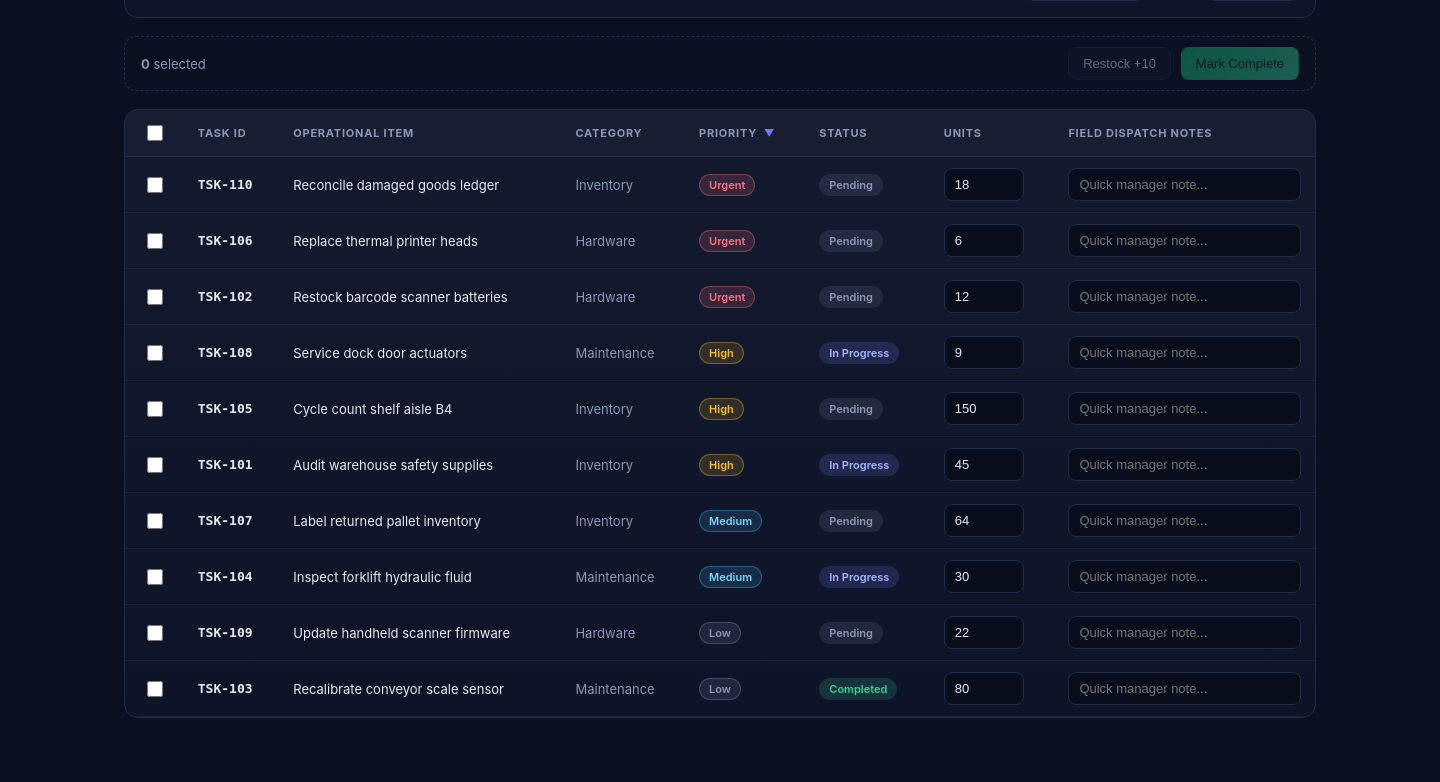
Test case: Bulk Actions & Selection Fidelity › updates ALL selected tasks when executing bulk Restock +10
(page scrolled)
Expected: the text "TSK-101" is shown, [184, 436, 279, 492]
What coordinates should you click on to do the following:
click the checkbox named "Select task TSK-101"
I would click on:
 (155, 464)
Its box is [147, 456, 163, 472].
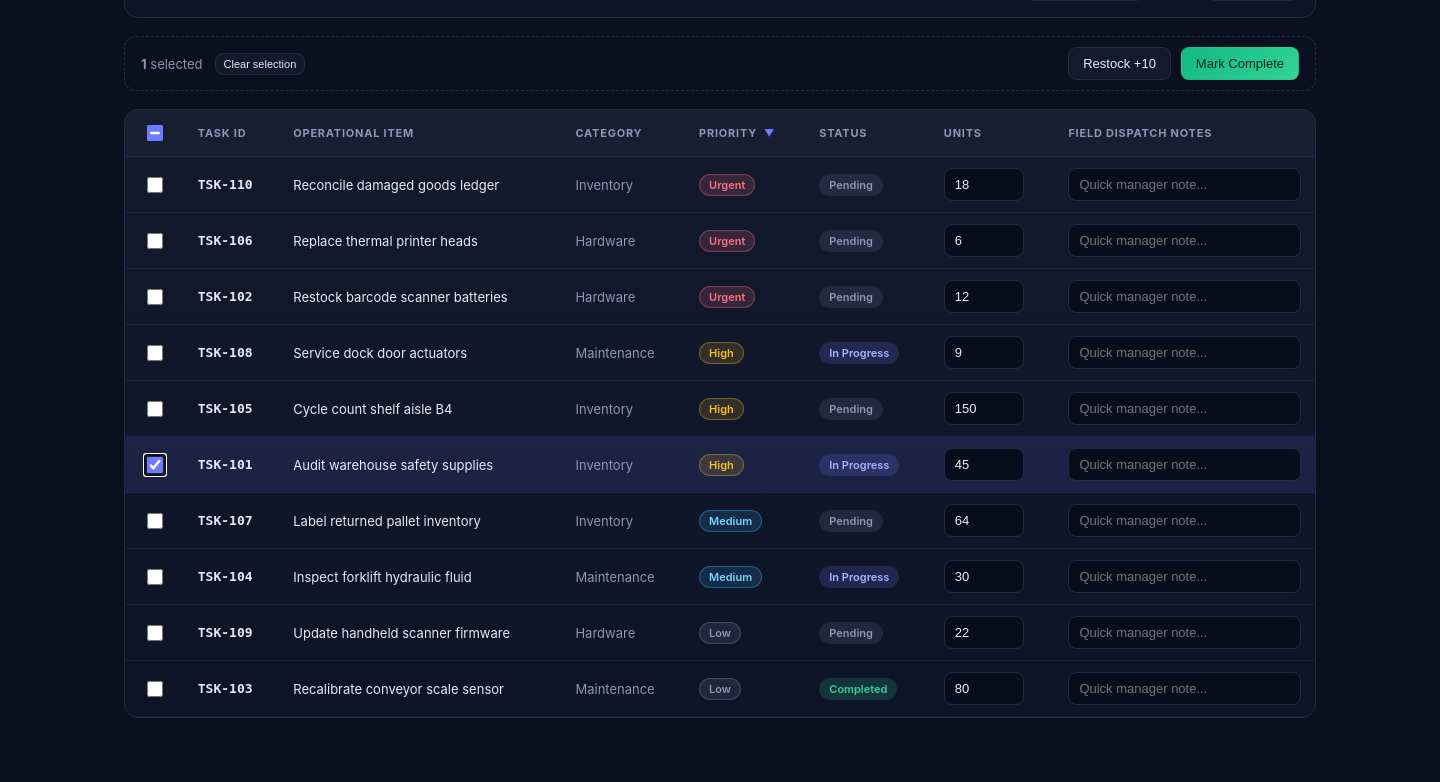
What coordinates should you click on to do the following:
click the checkbox named "Select task TSK-102"
I would click on:
 (155, 296)
Its box is [147, 288, 163, 304].
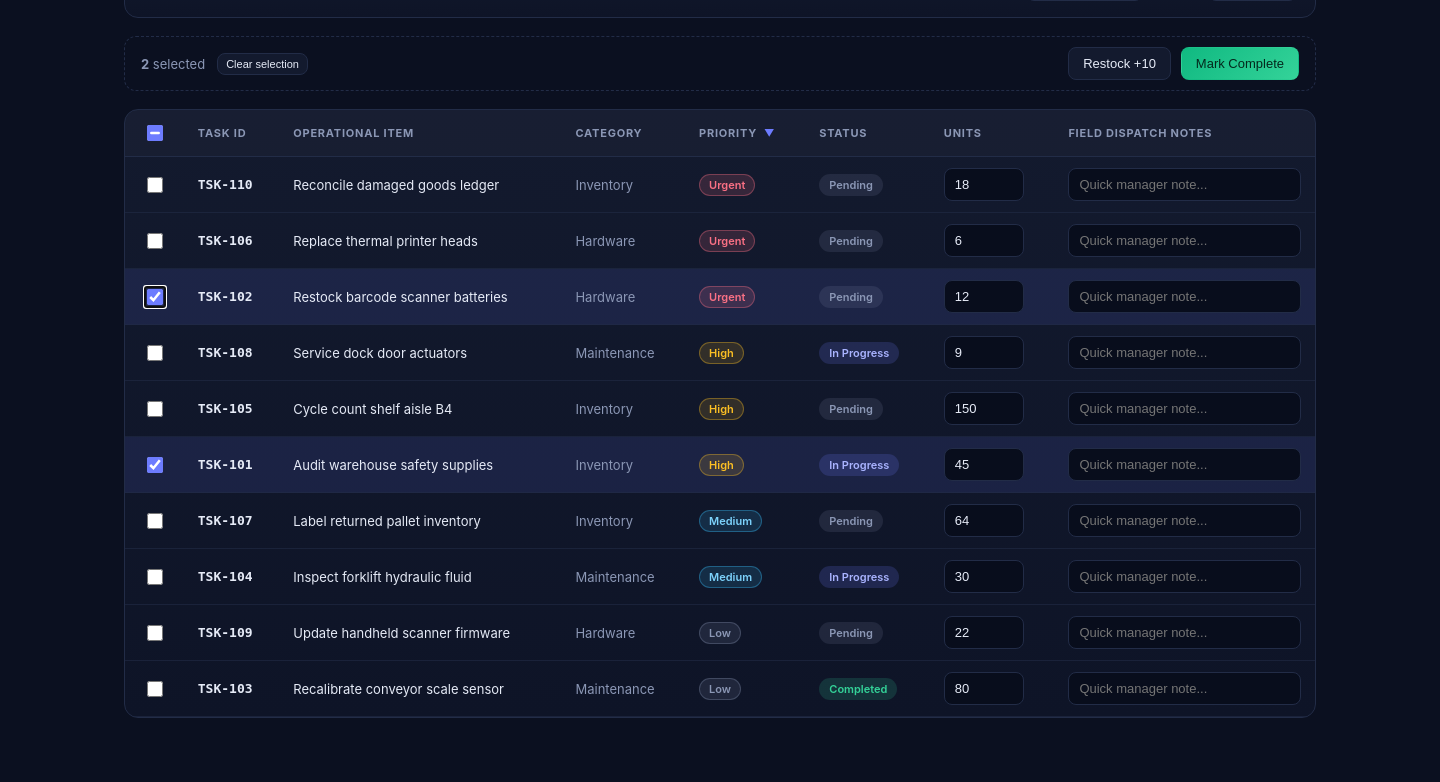
What coordinates should you click on to do the following:
click the button "Restock +10"
I would click on:
 (1120, 64)
Its box is [1068, 47, 1171, 80].
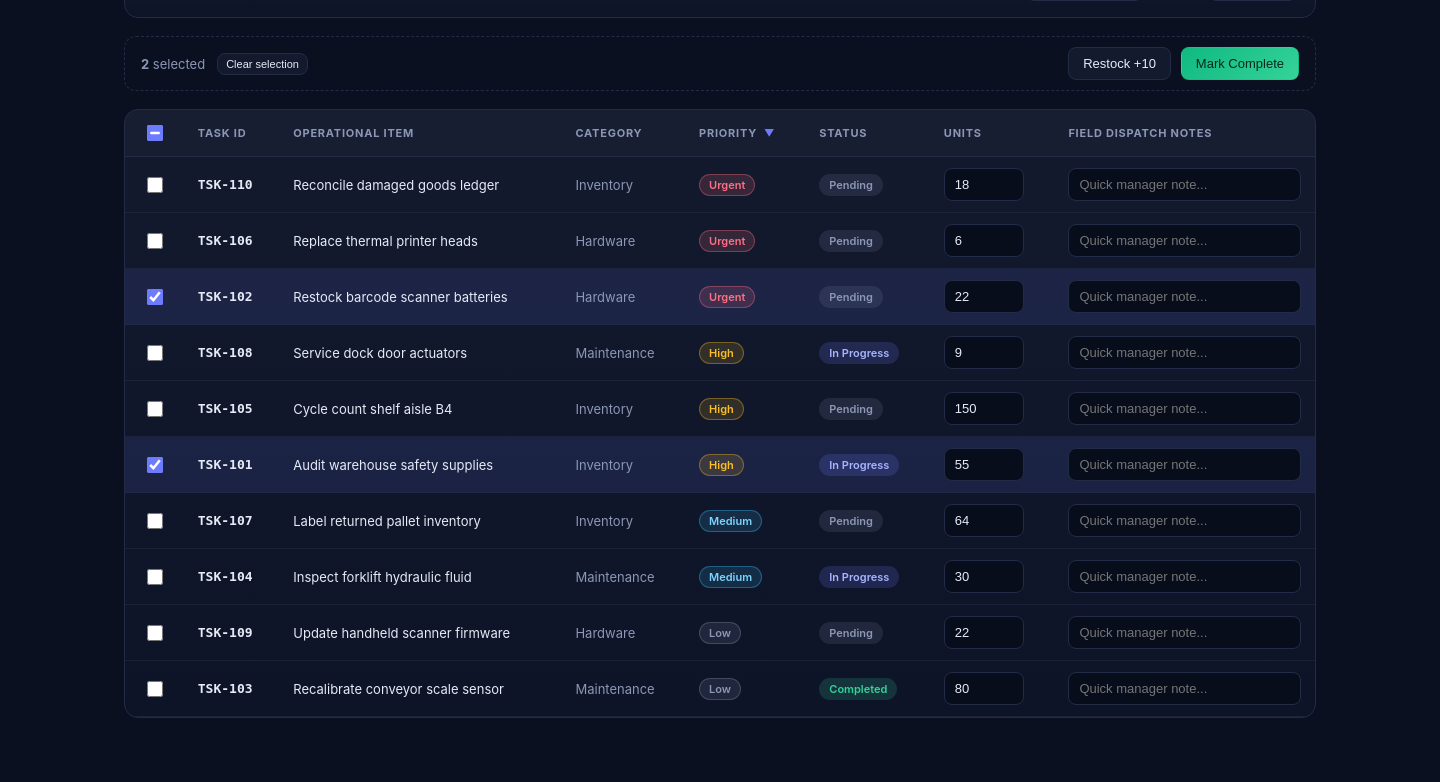
Result: the number field named "Stock units for task TSK-101" holds "55" at [944, 448, 1024, 481]
Result: the number field named "Stock units for task TSK-102" holds "22" at [944, 280, 1024, 313]
